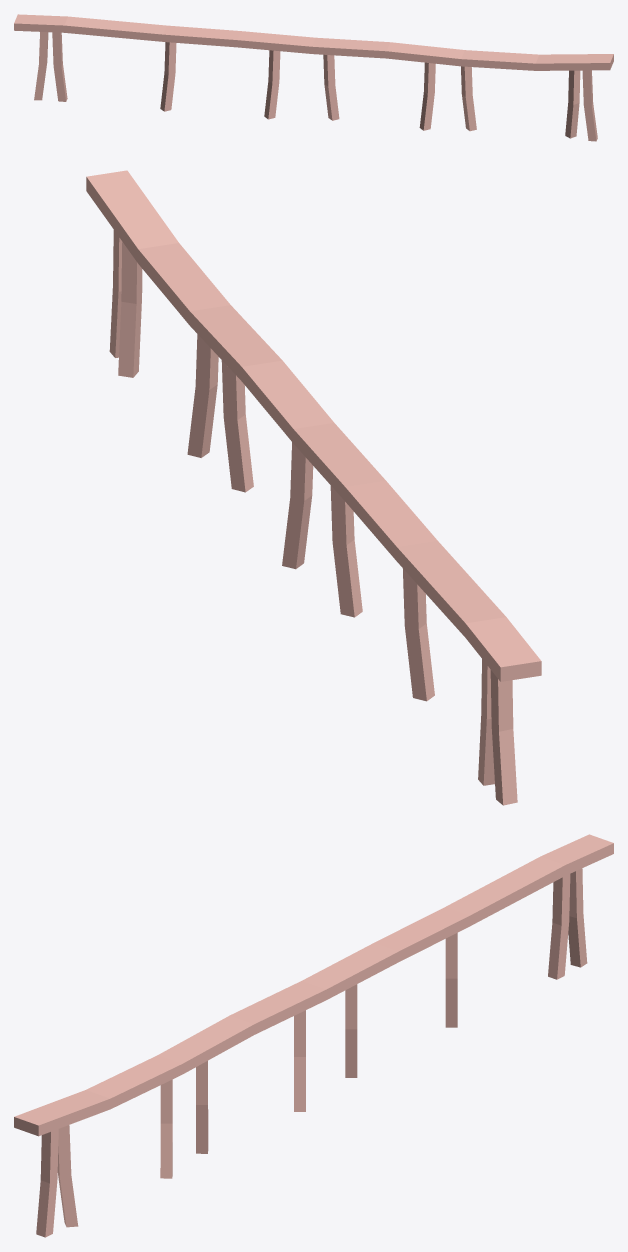
The model's file is Mega_Asset_s_Pack_Cube_244.FBX.
3 views of the same model, one above another, from view 1: azimuth 30°, elevation 25°; view 2: azimuth 150°, elevation 25°; view 3: azimuth 270°, elevation 25° (orthographic). The views are drawn at different scales.
Parts seen in each view (by area): view 1: Mega_Asset_s_Pack_Cube_244; view 2: Mega_Asset_s_Pack_Cube_244; view 3: Mega_Asset_s_Pack_Cube_244.
Boxes of the visible parts, <box> form: Mega_Asset_s_Pack_Cube_244: <box>14,14,613,141</box>; Mega_Asset_s_Pack_Cube_244: <box>86,170,541,805</box>; Mega_Asset_s_Pack_Cube_244: <box>14,834,613,1237</box>.
Size of what is drawn, in the model's own units: 721 by 612 by 137.
